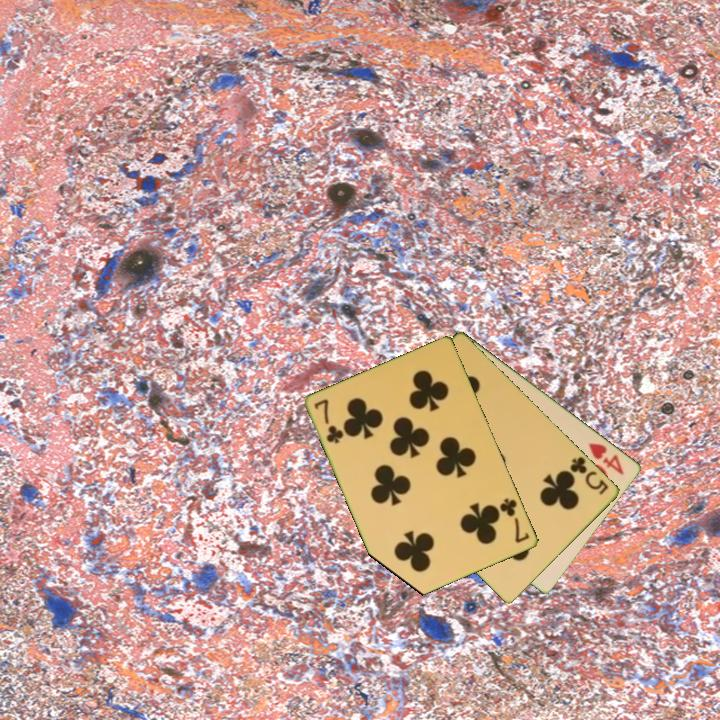4h: (585, 439, 627, 478)
5c: (567, 453, 612, 498)
7c: (496, 495, 533, 546), (311, 395, 347, 447)
